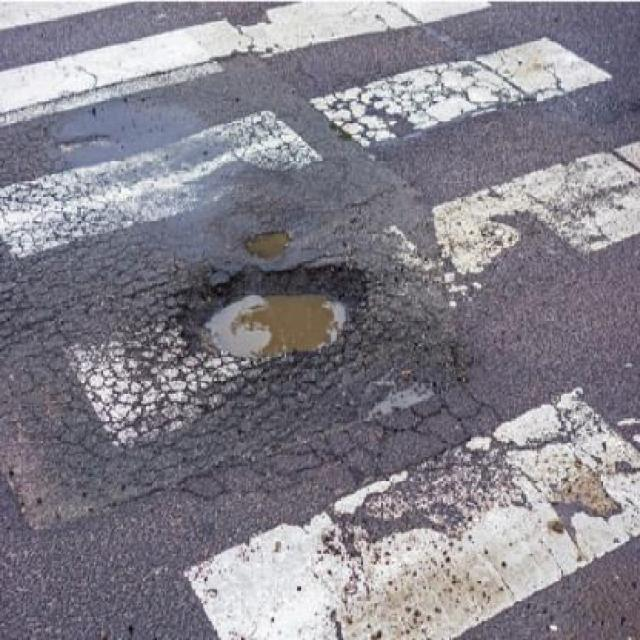Pothole: (188, 266, 368, 360)
